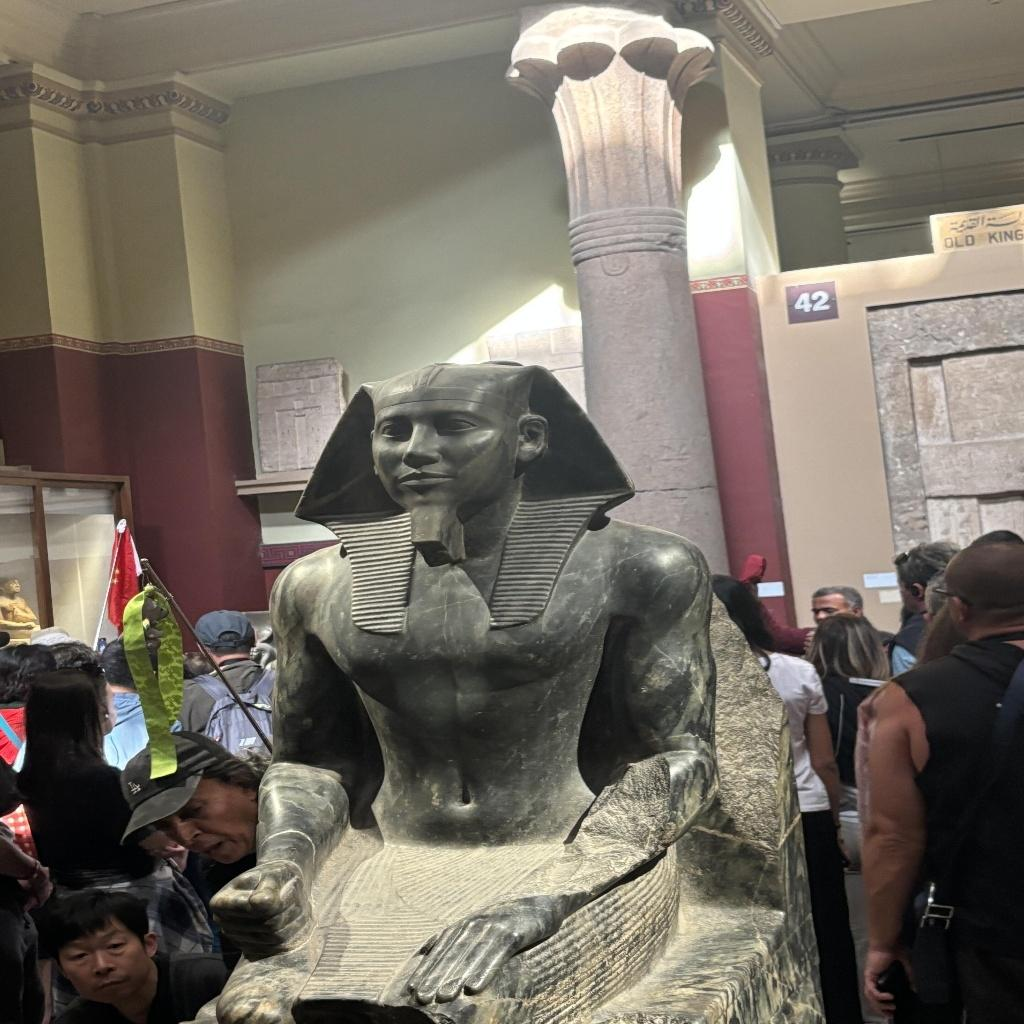Statue of Khafre: (210, 360, 714, 1016)
